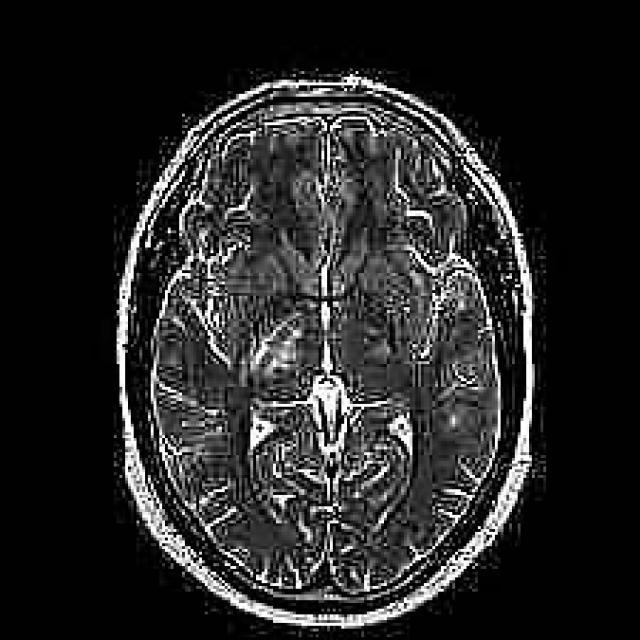notumor: (119, 74, 535, 634)
